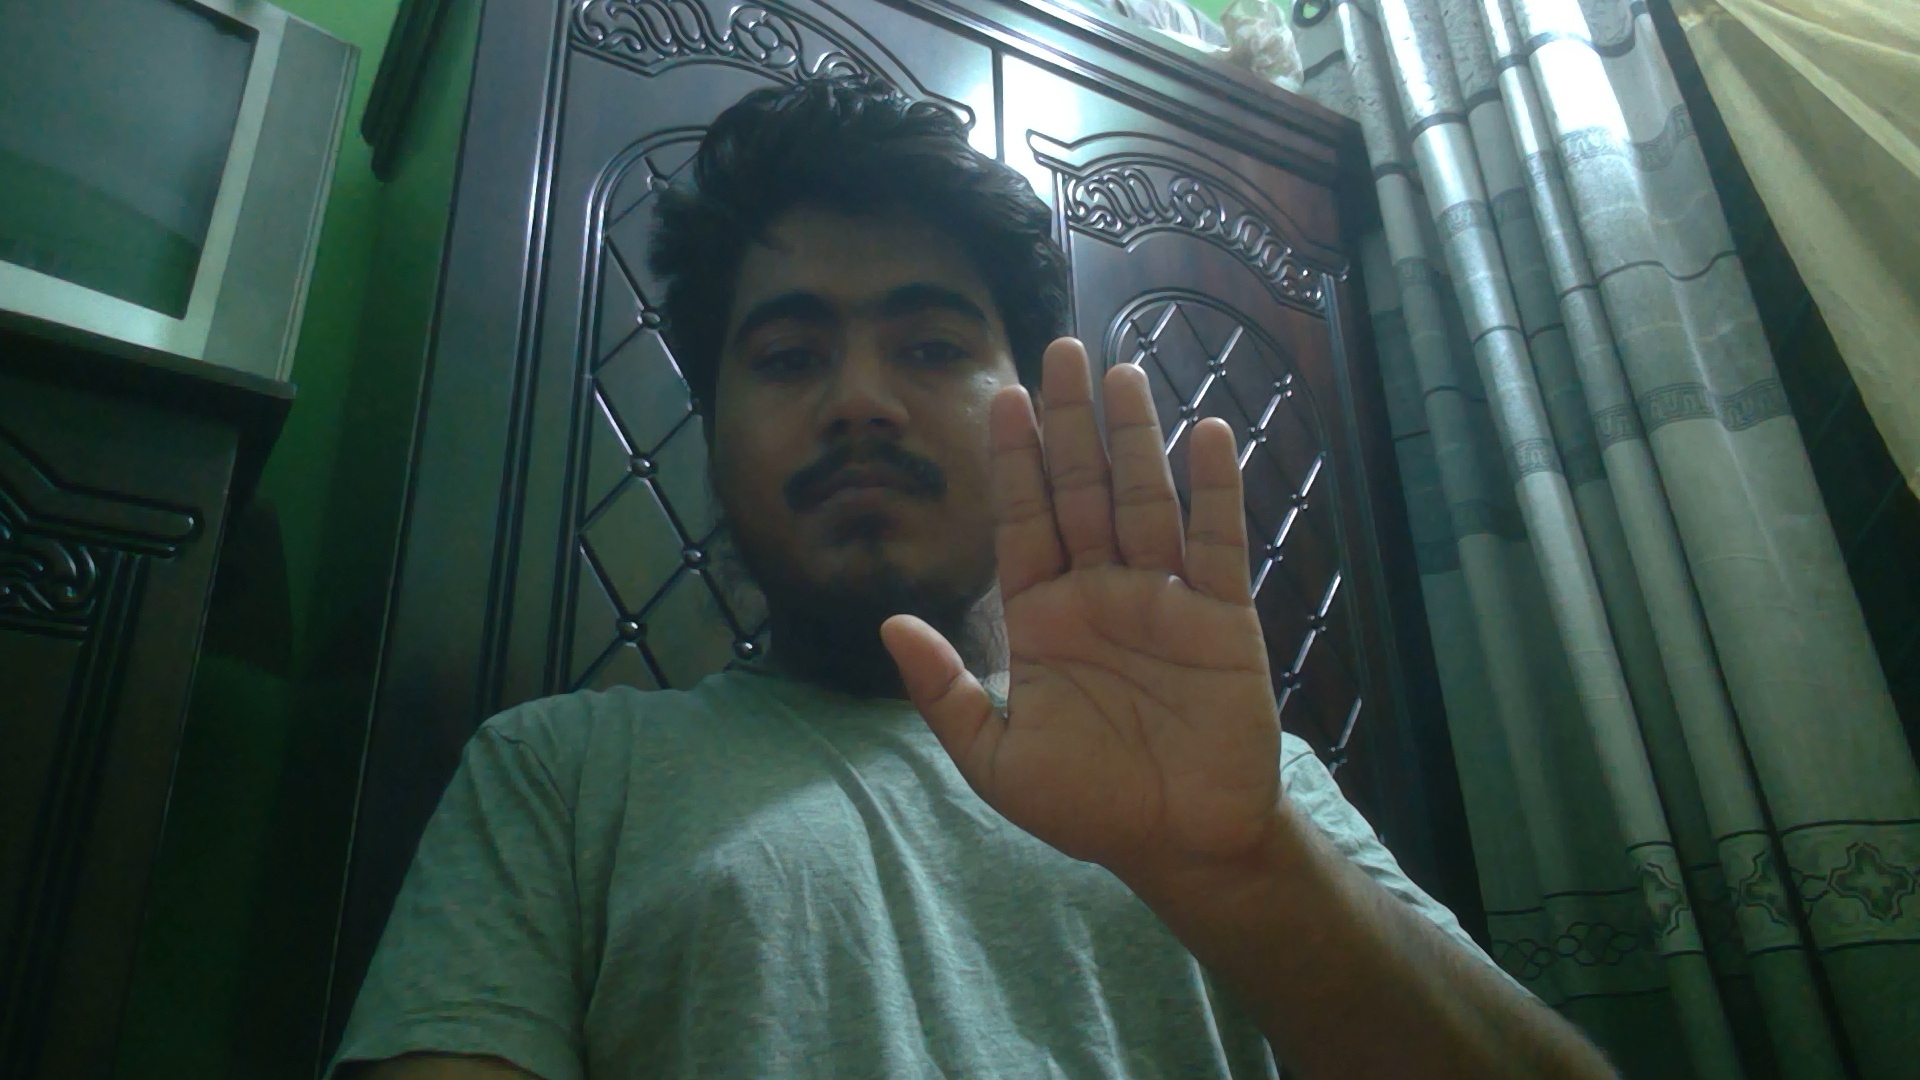Hello: (877, 330, 1308, 872)
